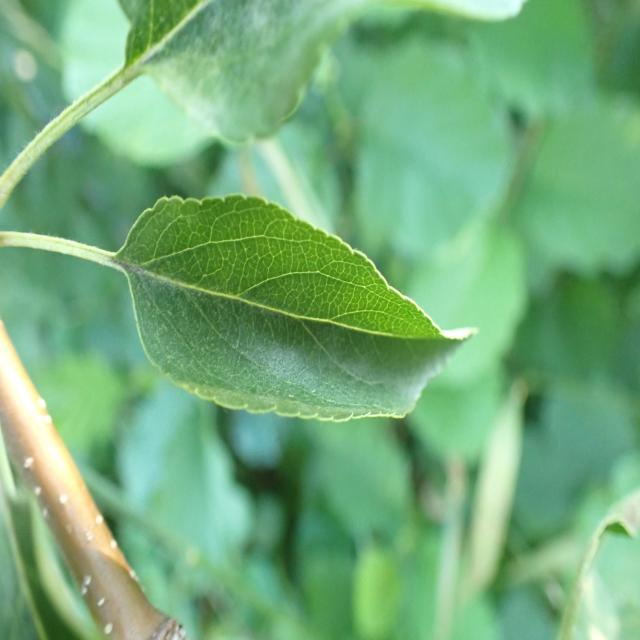Powdery_mildew: (124, 201, 466, 445), (116, 0, 380, 173)
